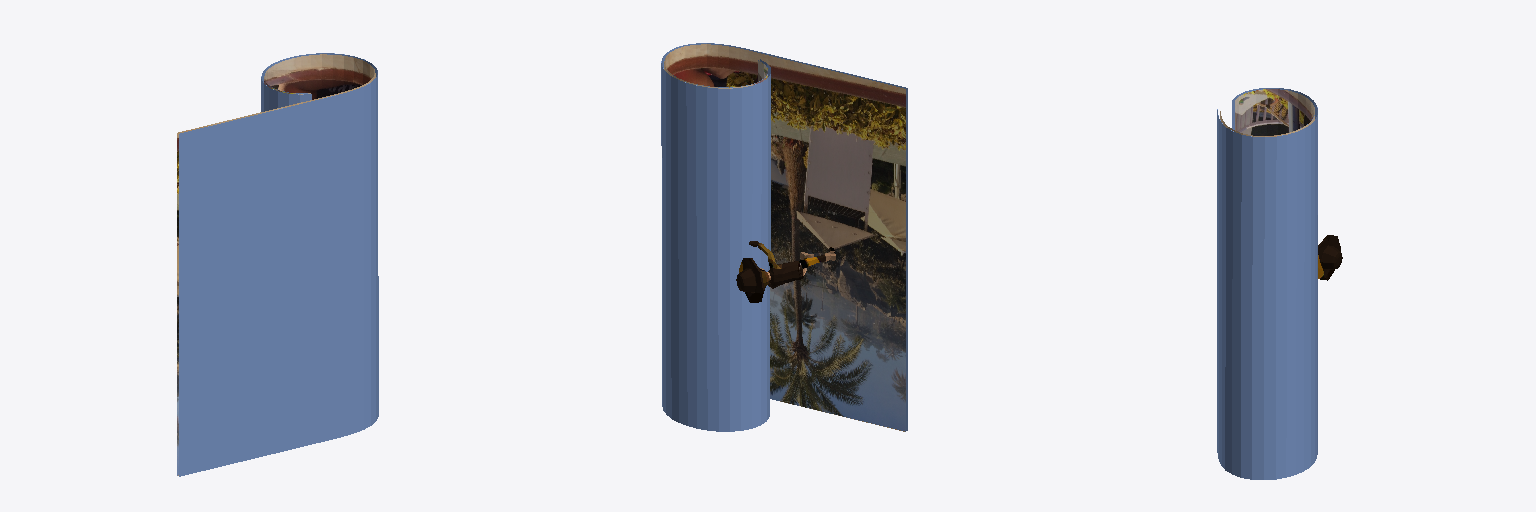
The picture shows the model from 3 angles: view 1: azimuth 30°, elevation 25°; view 2: azimuth 150°, elevation 25°; view 3: azimuth 270°, elevation 25°; orthographic projection.
Parts seen in each view (by area): view 1: Cube_Cube.001; view 2: Cube_Cube.001, Character_Cube; view 3: Cube_Cube.001, Character_Cube.
Part boxes in pixels (x1,y1,x2,y2): Cube_Cube.001: (177,53,378,476); Cube_Cube.001: (661,43,907,431); Character_Cube: (736,241,835,302); Cube_Cube.001: (1217,88,1317,479); Character_Cube: (1318,235,1342,280).
Size of the model in its own units: 1.01 by 1.52 by 0.5044.
Materials: 2 (2 with a texture image).